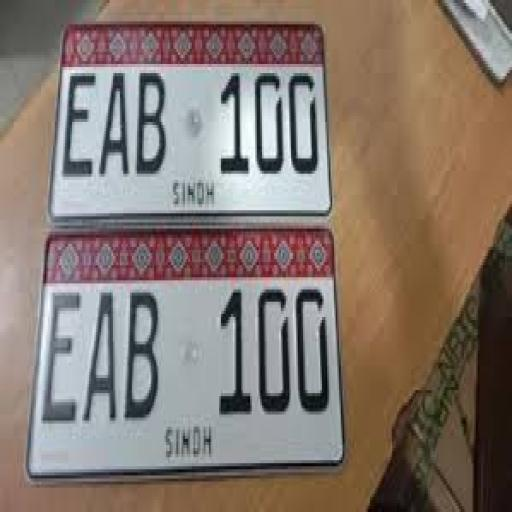0: (294, 286, 331, 422), (255, 289, 292, 419), (254, 68, 286, 180), (287, 74, 319, 178)
1: (218, 288, 250, 426), (213, 75, 254, 179)
A: (92, 280, 118, 436), (101, 69, 128, 187)
B: (125, 282, 159, 420), (138, 69, 166, 174)
E: (46, 292, 79, 426), (68, 67, 94, 191)
